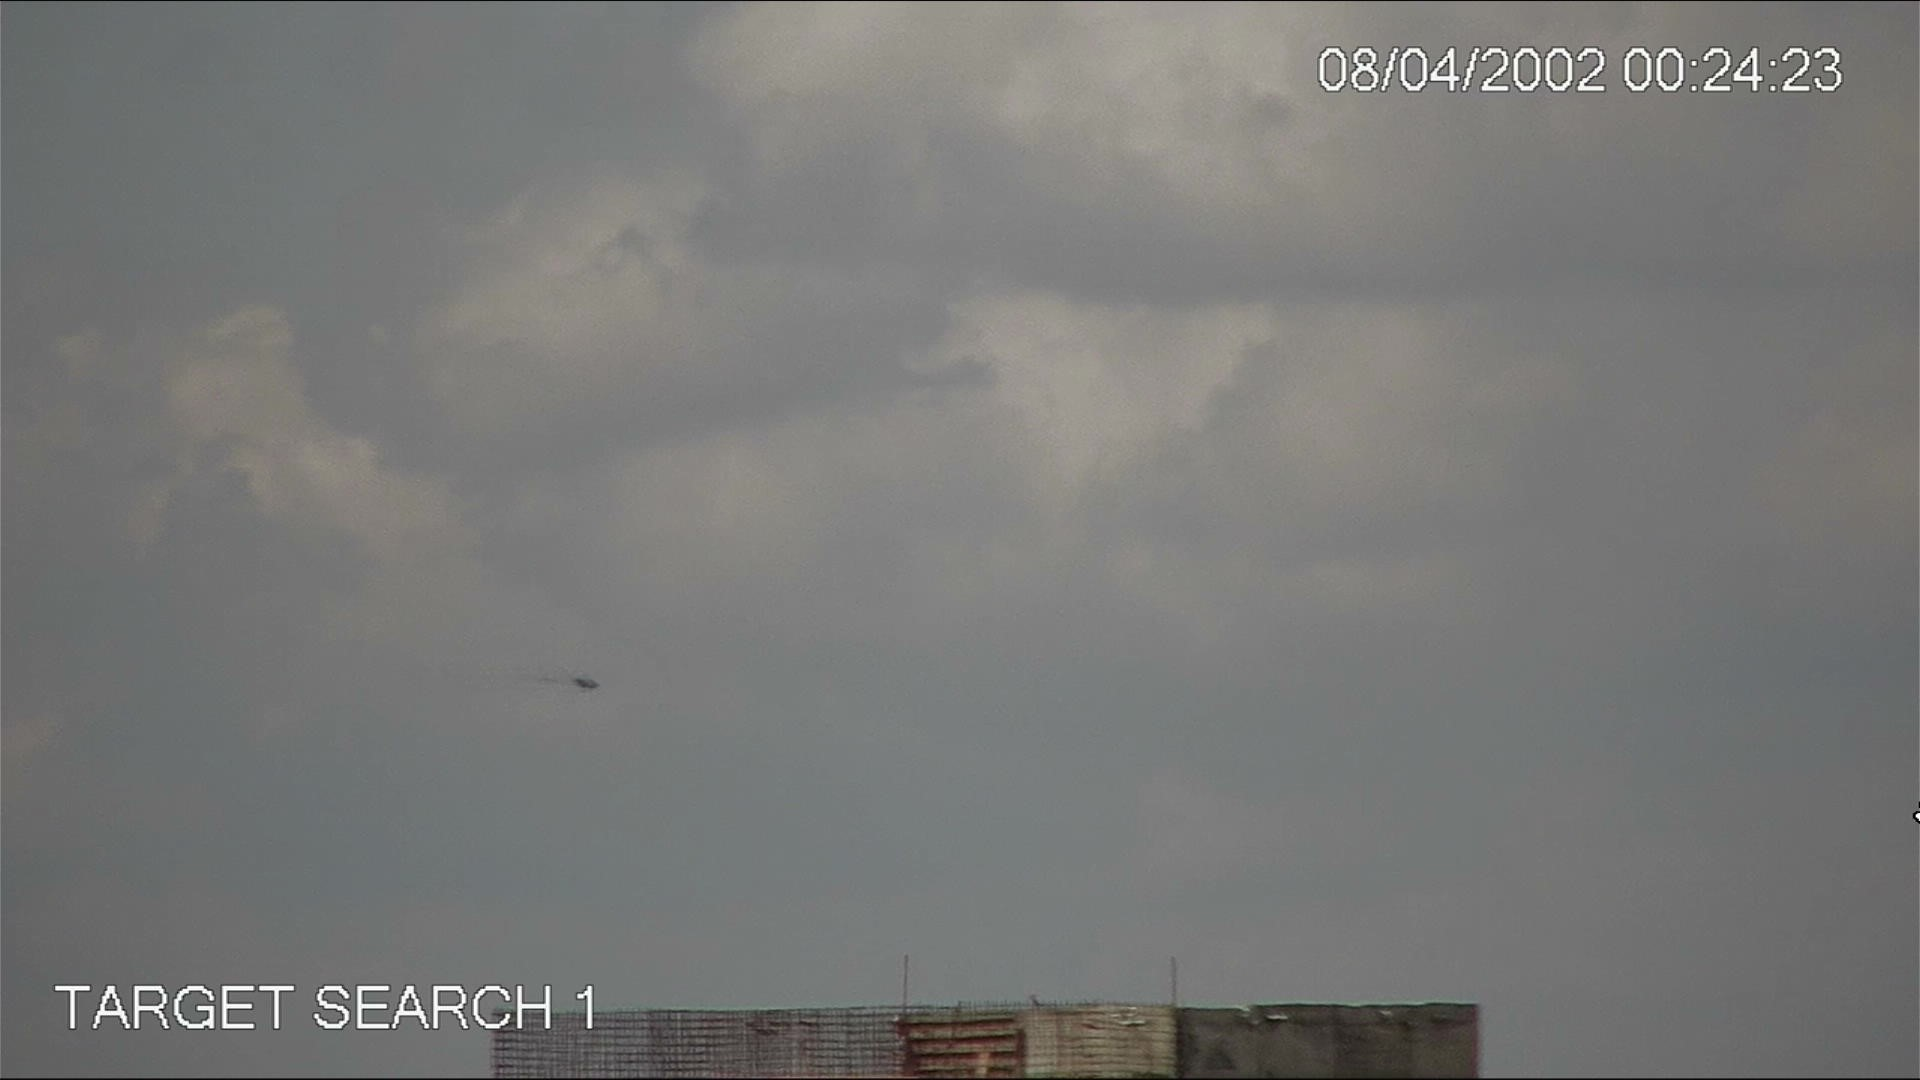SU_30: (541, 669, 609, 695)
